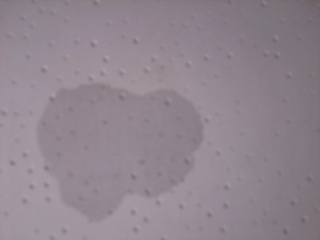Water_detected: (61, 105, 178, 206)
